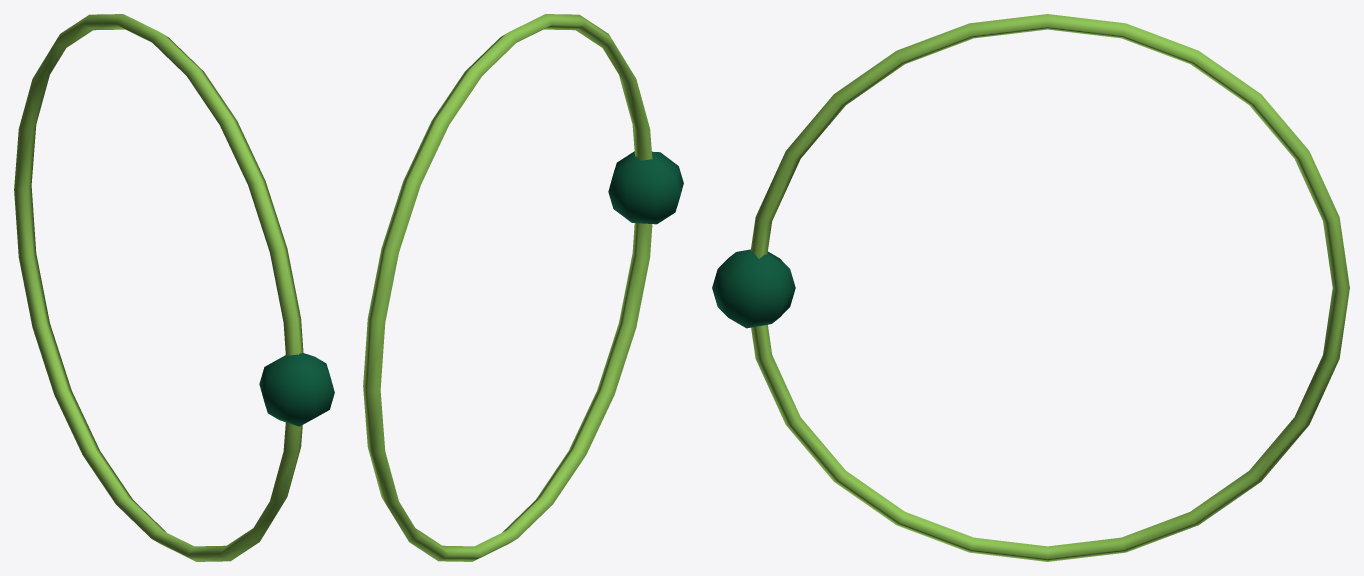
Rendered from Artifact_orbit_03.fbx.
3 renders of one model, left to right at view 1: azimuth 30°, elevation 25°; view 2: azimuth 150°, elevation 25°; view 3: azimuth 270°, elevation 25°, orthographic. The views are drawn at different scales.
Visible parts, largest first — view 1: Artifact_orbit_03; view 2: Artifact_orbit_03; view 3: Artifact_orbit_03.
Boxes of the visible parts, x1=… form: Artifact_orbit_03: x1=14, y1=14, x2=334, y2=561; Artifact_orbit_03: x1=363, y1=14, x2=683, y2=561; Artifact_orbit_03: x1=712, y1=14, x2=1349, y2=561.
Size of the model in its own units: 27.46 by 209 by 198.
